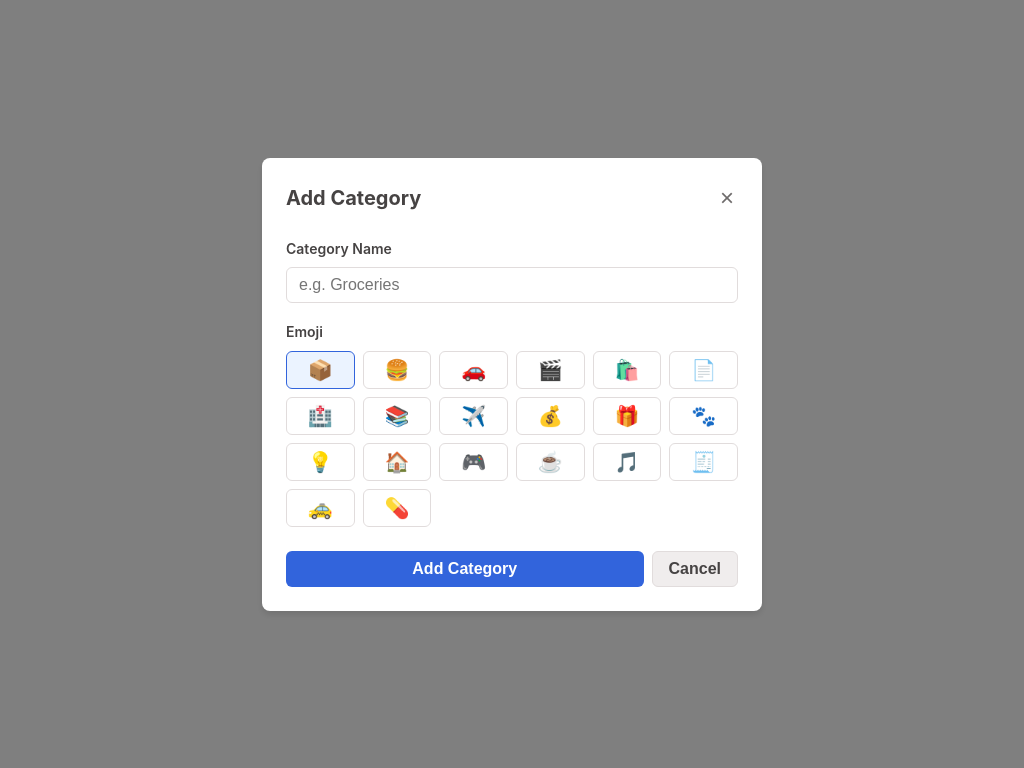
Test: AddCategoryModal › rejects a blank category name
The width and height of the screenshot is (1024, 768).
Step 1. Click the button "Add Category" → (465, 568), box [286,550,644,586]
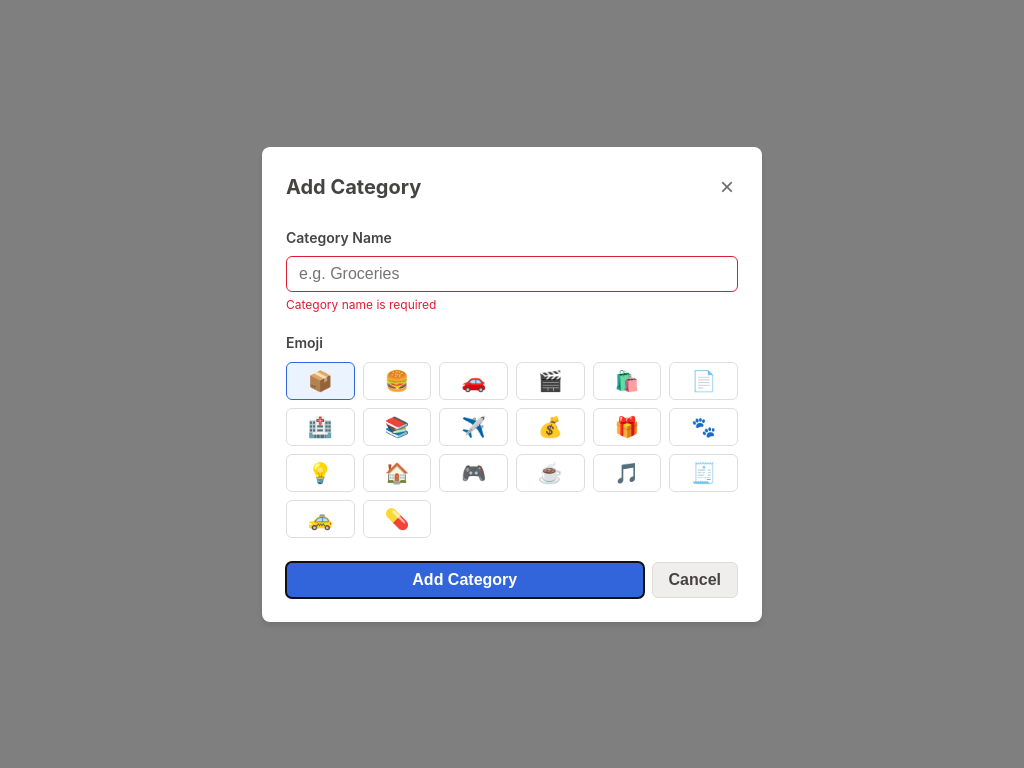
expect the text "Category name is required" is shown: met, box [286,296,436,312]
